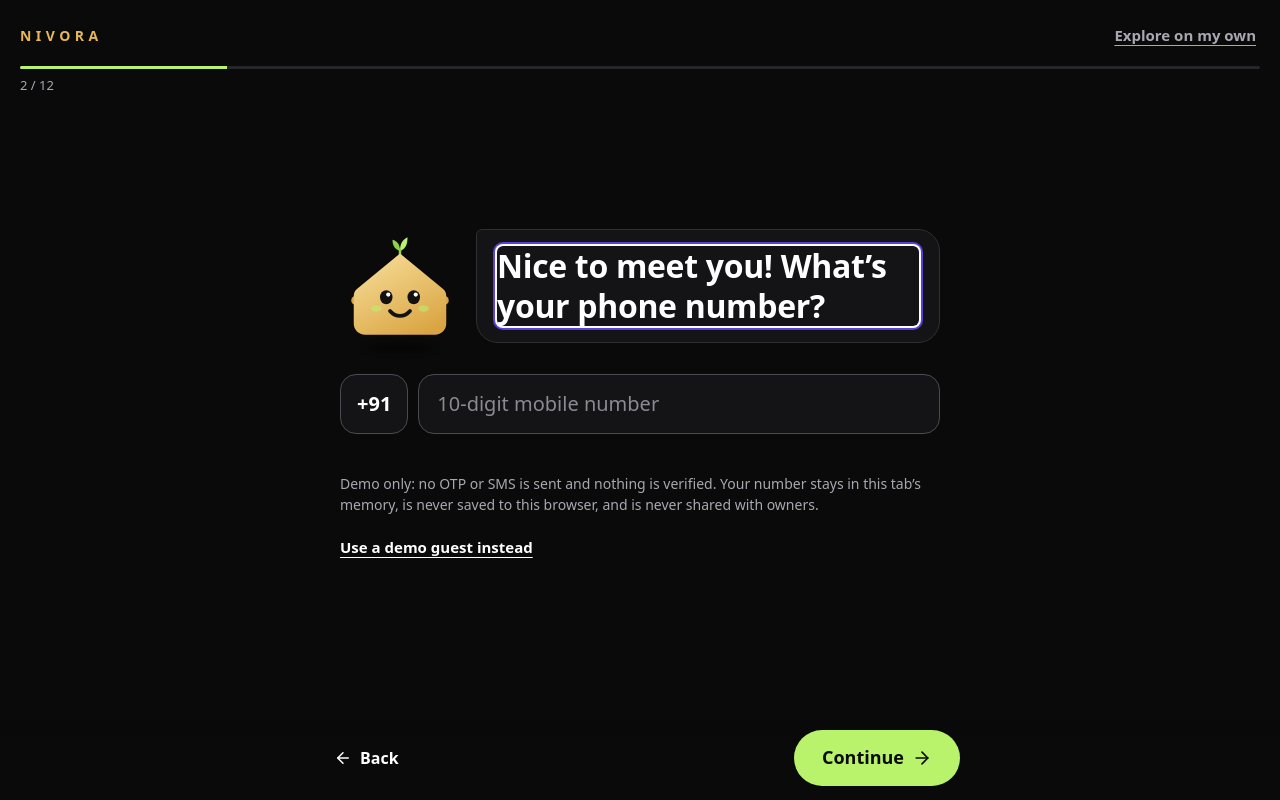
name and phone › never persists the phone number: not in storage, not in the URL, not shared; demo guest needs none
Type "12345" into the field labelled "mobile number" at (679, 404), box x1=418 y1=374 x2=940 y2=434
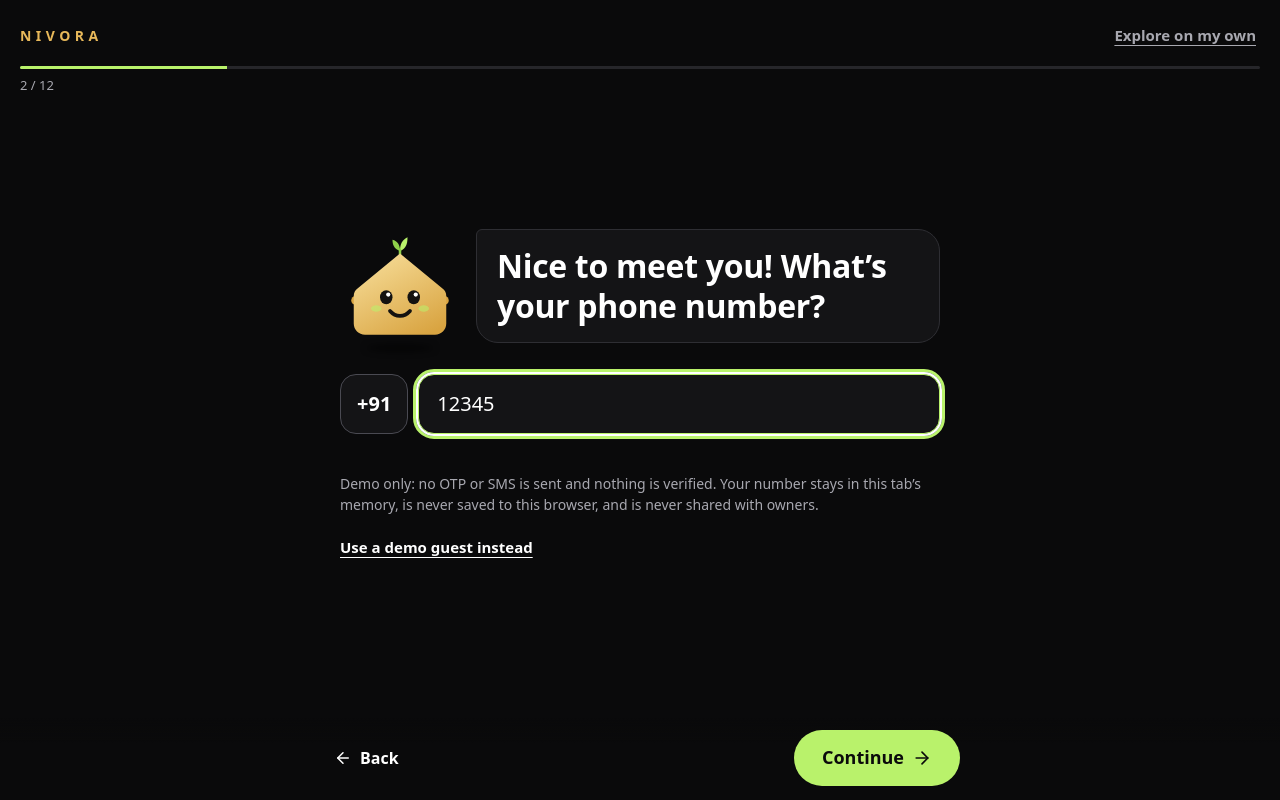
Click the button "Continue" at (877, 758), box x1=794 y1=730 x2=960 y2=786
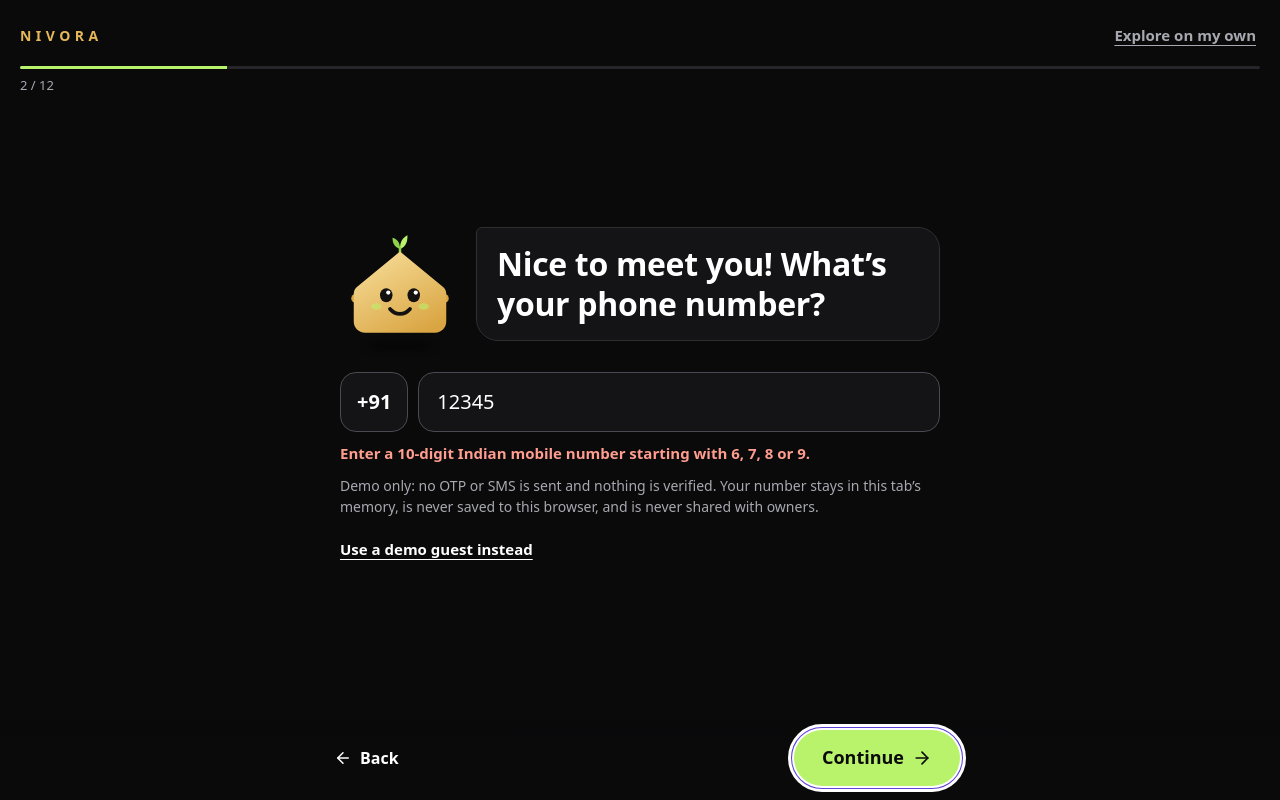
Expected: the message shows "10-digit Indian mobile", x1=340 y1=443 x2=810 y2=463
Clear the field named "mobile number" at (679, 402), box x1=418 y1=372 x2=940 y2=432
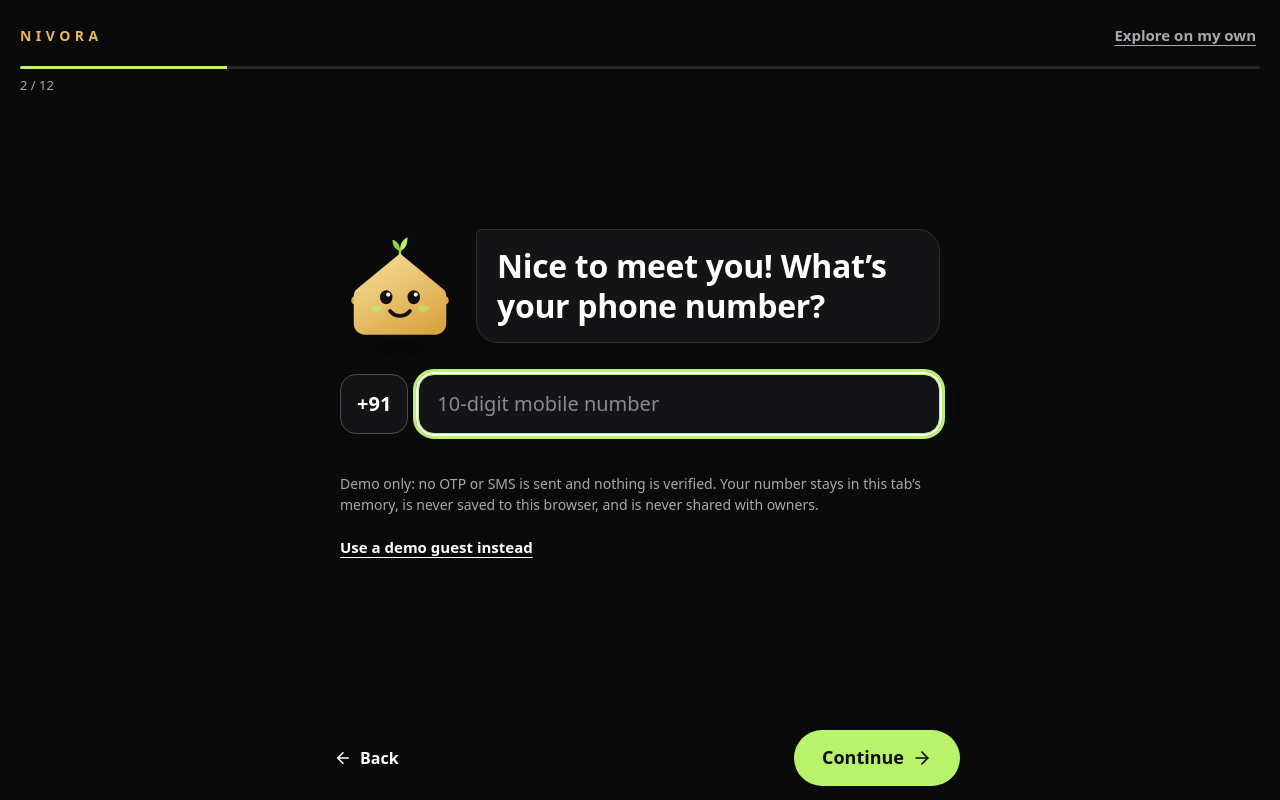
Type "98765 43210" into the field labelled "mobile number" at (679, 404), box x1=418 y1=374 x2=940 y2=434
Then press Enter
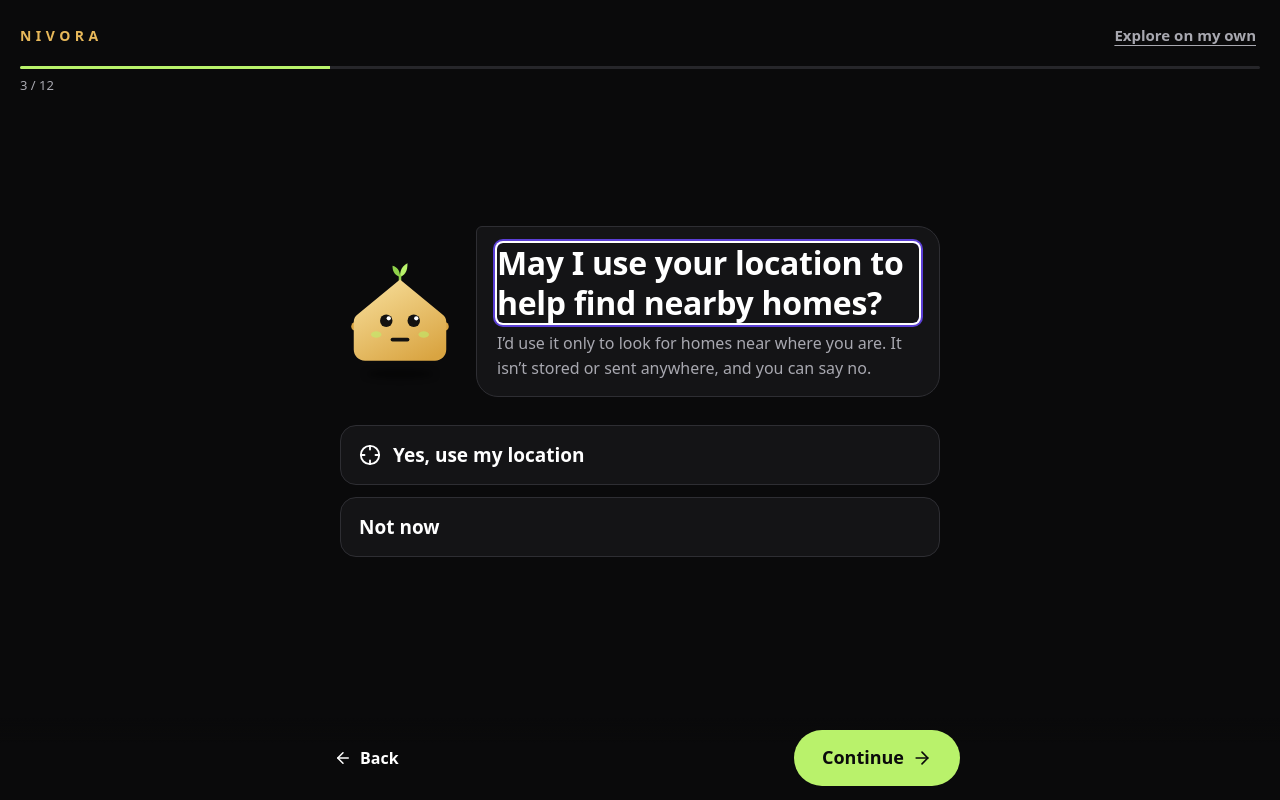
Expected: the heading shows "May I use your location", x1=497 y1=241 x2=903 y2=324
